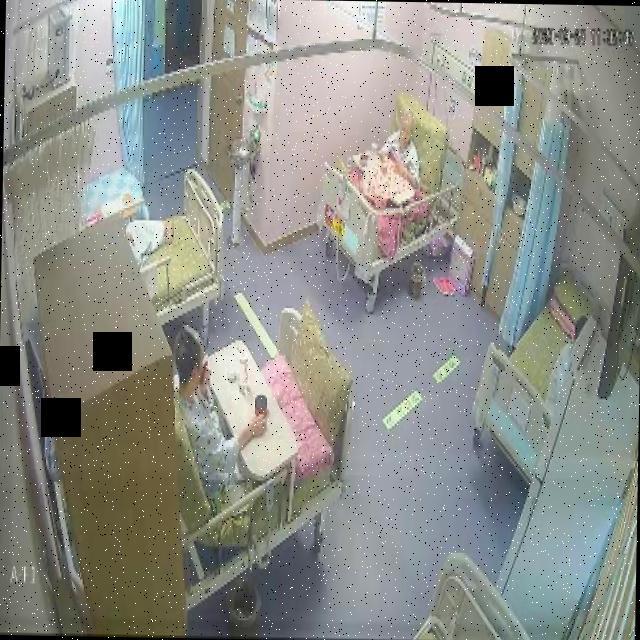bed: (170, 307, 356, 575), (304, 114, 460, 306), (469, 280, 592, 486), (125, 165, 227, 326)
patient: (169, 316, 272, 507), (378, 108, 422, 180)
sit: (168, 318, 273, 512), (378, 110, 423, 186)
